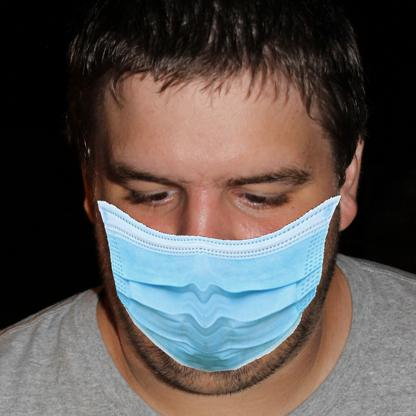mask: (94, 196, 346, 376)
